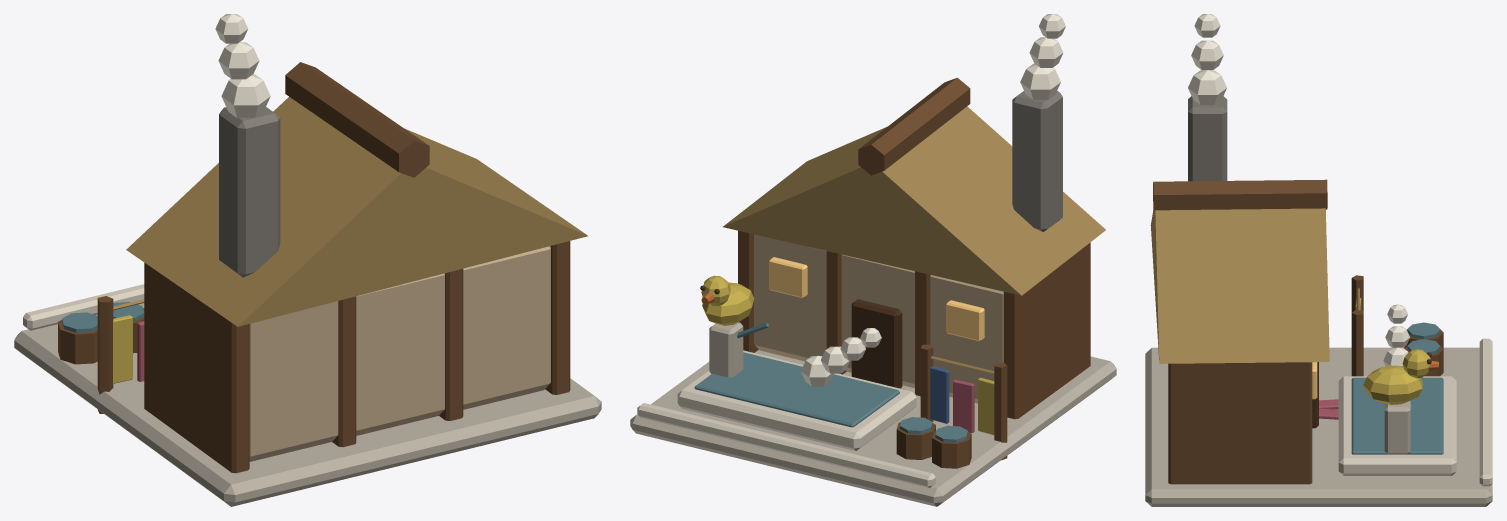
The model's file is bathhouse.fbx.
The picture shows the model from 3 angles, left to right: view 1: azimuth 30°, elevation 25°; view 2: azimuth 150°, elevation 25°; view 3: azimuth 270°, elevation 25°; orthographic projection. The views are drawn at different scales.
Visible parts, largest first — view 1: Building; view 2: Building; view 3: Building.
Boxes of the visible parts, x1,y1,x2,y2 form: Building: (14,14,601,506); Building: (630,14,1116,506); Building: (1145,14,1492,506).
Bounding box in the file's own units: 1.06 × 1.06 × 1.23.
